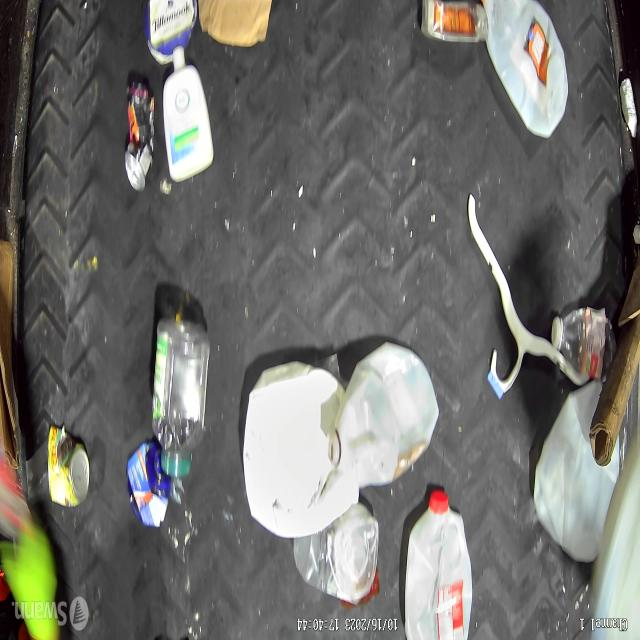can: (123, 78, 157, 198), (45, 428, 92, 510)
milk_jug: (240, 359, 340, 537), (330, 350, 436, 490), (406, 497, 472, 639)
plastic_bottle: (552, 303, 608, 381)
